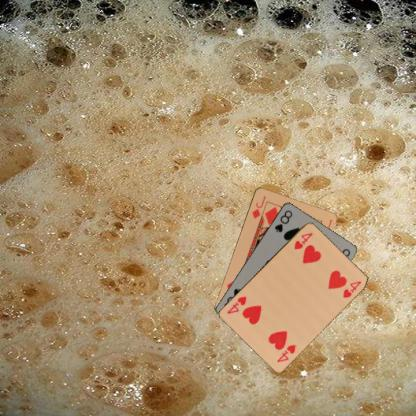4h: (274, 342, 297, 363), (292, 230, 314, 250)
8s: (272, 207, 294, 233)
Jd: (249, 193, 267, 220)
